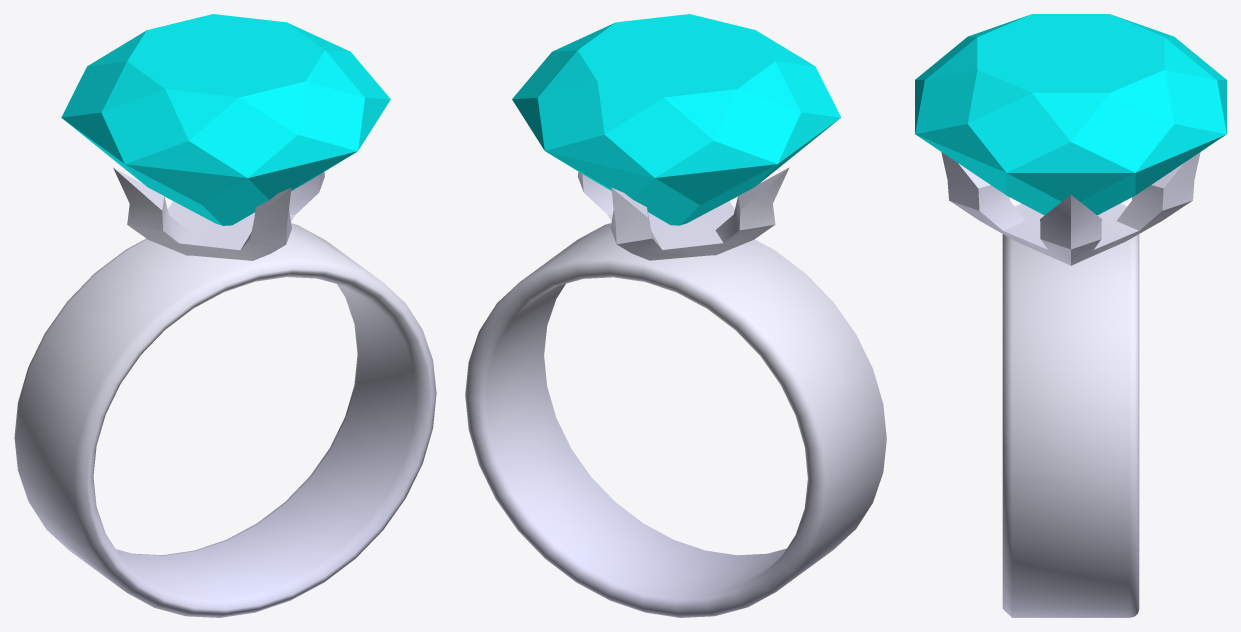
Rendered from Ring.fbx.
The picture shows the model from 3 angles, left to right: view 1: azimuth 30°, elevation 25°; view 2: azimuth 150°, elevation 25°; view 3: azimuth 270°, elevation 25°; orthographic projection.
Visible parts, largest first — view 1: Cylinder.002, Gem, Cube.007; view 2: Cylinder.002, Gem, Cube.007; view 3: Cylinder.002, Gem, Cube.007.
Part boxes in pixels (x1,y1,x2,y2): Cylinder.002: (14,223,436,617); Gem: (61,14,390,225); Cube.007: (113,167,324,260); Cylinder.002: (465,223,886,617); Gem: (512,14,840,225); Cube.007: (577,167,789,260); Cylinder.002: (1002,234,1139,617); Gem: (915,14,1226,215); Cube.007: (941,152,1200,265).
Size of the model in its own units: 0.3206 by 0.452 by 0.2349.
